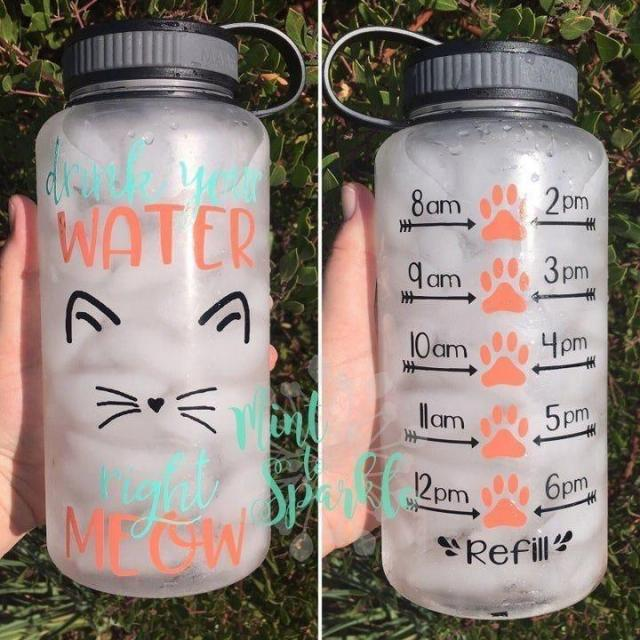gym bottle: (372, 25, 612, 624), (36, 8, 274, 604)
